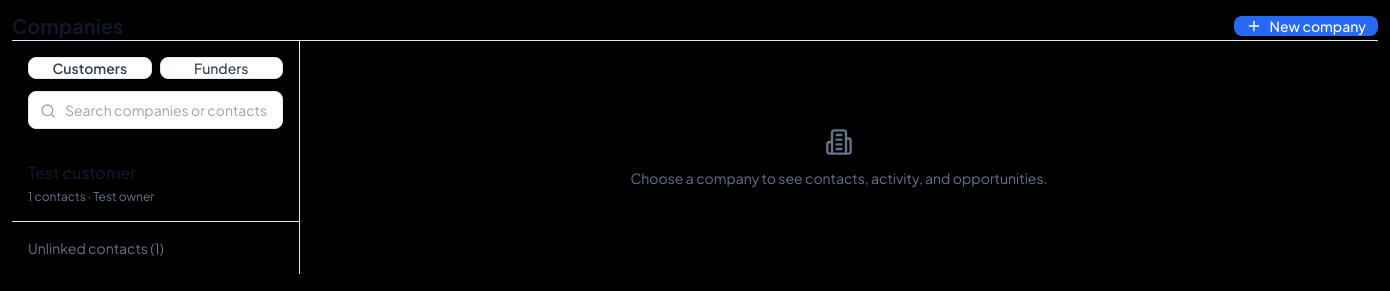
Test case: company CRM › has only customer/funder relationship tabs and keeps unlinked contacts reachable
The image size is (1390, 291).
What coordinates should you click on to do the following:
click the tab "Funders"
I would click on:
 (221, 68)
Its box is [160, 57, 283, 79].
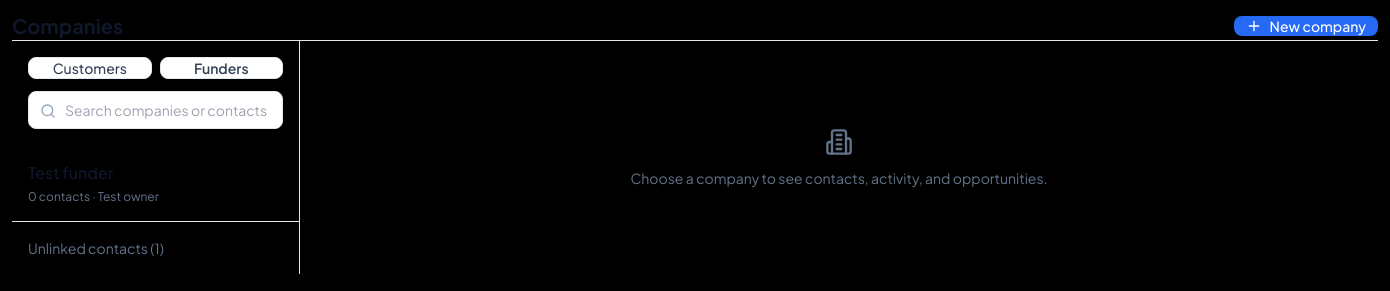
Result: the text "Test funder" is shown at [28, 162, 113, 183]
Result: the text "Test customer" is gone
What coordinates should you click on to do the following:
click the button "Unlinked contacts (1)"
I would click on:
 (156, 248)
Its box is [12, 221, 299, 274].
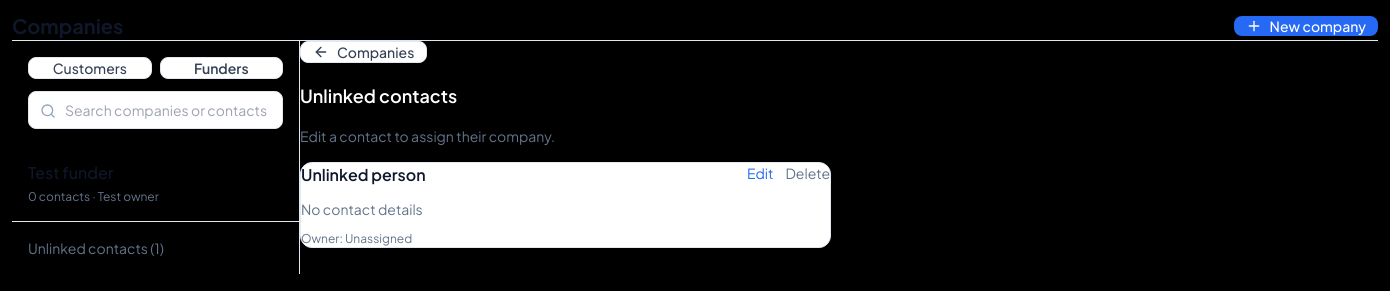
Result: the text "Unlinked person" is shown at [301, 163, 426, 187]
